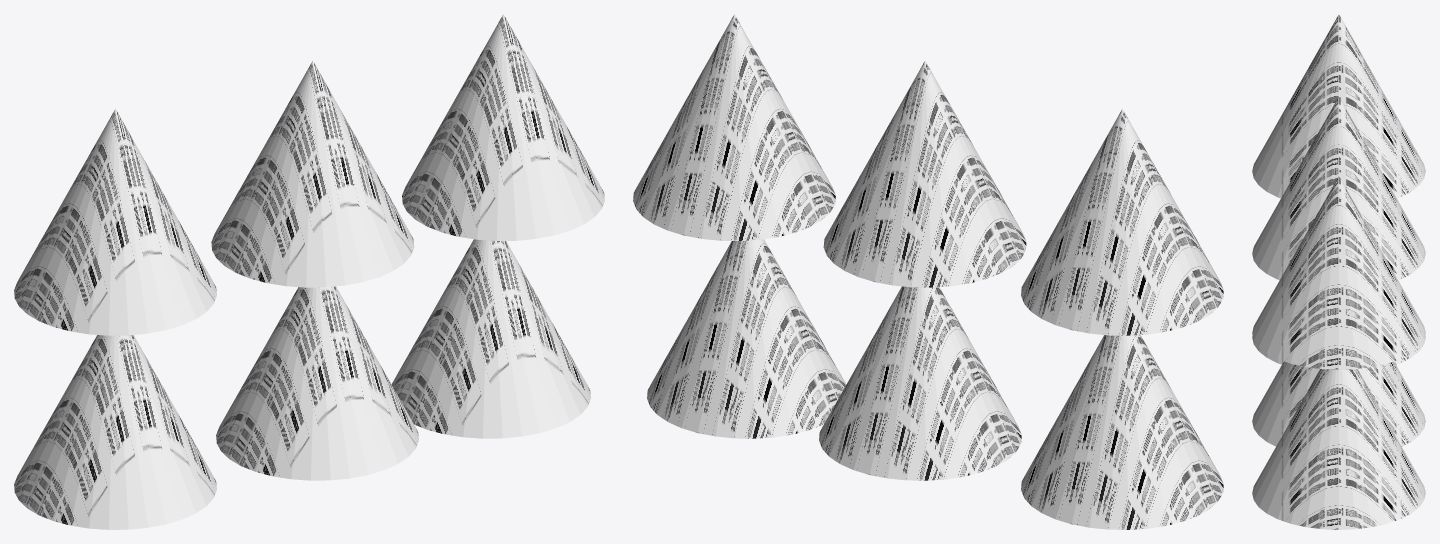
File: piramid.glb
3 views of the same model, side by side, from view 1: azimuth 30°, elevation 25°; view 2: azimuth 150°, elevation 25°; view 3: azimuth 270°, elevation 25° (orthographic). The views are drawn at different scales.
Visible parts, largest first — view 1: Cone.005; view 2: Cone.005; view 3: Cone.005.
Boxes of the visible parts, box(x1,y1,x2,y2) form: Cone.005: box(14, 14, 604, 529); Cone.005: box(633, 14, 1223, 529); Cone.005: box(1252, 14, 1425, 529).
Size of the model in its own units: 6.41 by 4.11 by 2.
Materials: 1 (1 with a texture image).
